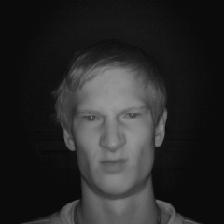normal: (59, 48, 166, 199)
